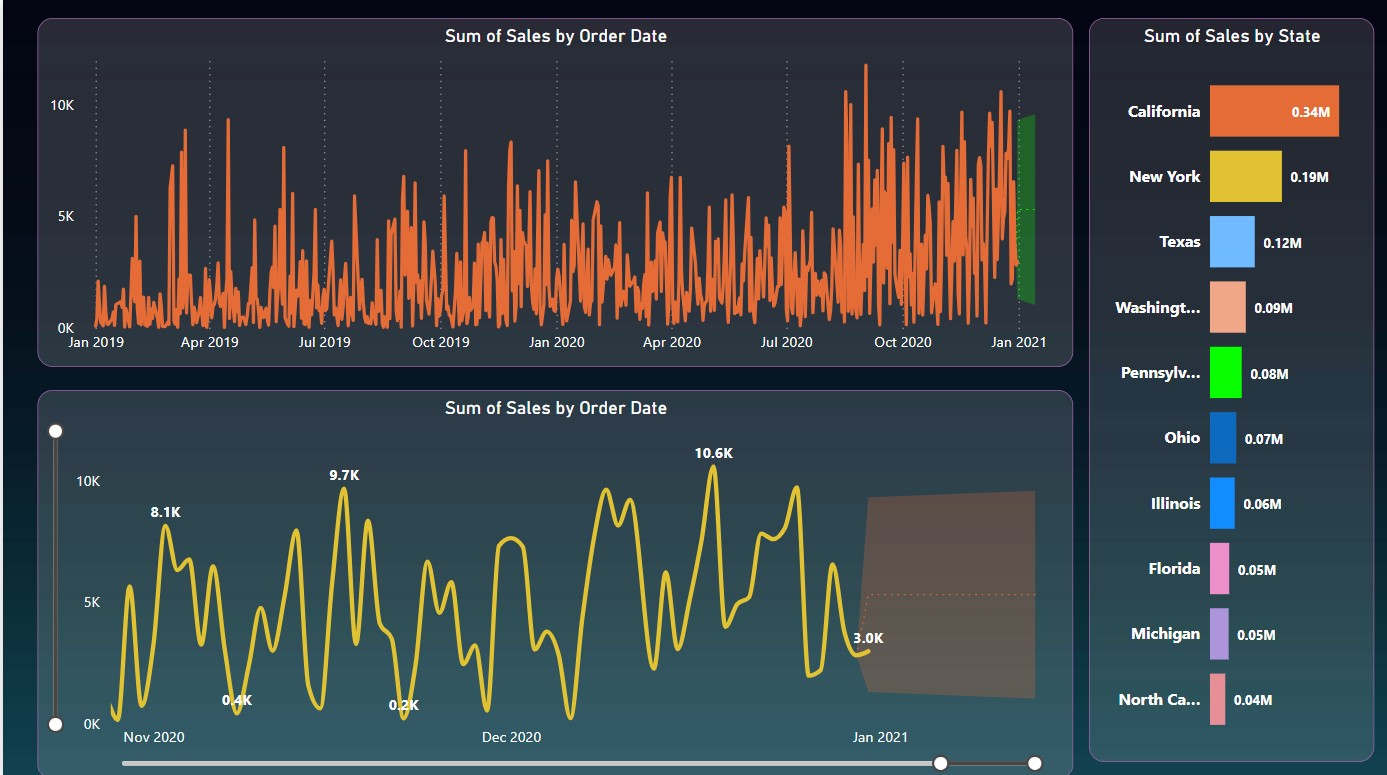

The page's visual inventory and layout, read from the dashboard file:
{"tool":"powerbi","page":{"name":"Page 2","canvas":[1280,720],"ordinal":1},"visuals":[{"type":"lineChart","fields":{"Y":["Sum(SuperStore_Sales_Dataset.Sales)"],"Category":["SuperStore_Sales_Dataset.Order Date"]},"box":[31.8,16.6,956.2,322.3],"z":0},{"type":"lineChart","fields":{"Y":["Sum(SuperStore_Sales_Dataset.Sales)"],"Category":["SuperStore_Sales_Dataset.Order Date"]},"box":[31.8,360.1,956.2,360.1],"z":1000},{"type":"barChart","fields":{"Category":["SuperStore_Sales_Dataset.State"],"Y":["Sum(SuperStore_Sales_Dataset.Sales)"]},"box":[1003.1,16.6,263.3,686.9],"z":2000}]}

Visuals, with their boxes in screenshot pixels (x1, y1, x2, y2), scaled from the page's 1280x720 canvas onto the 1387x775 screenshot:
lineChart - Sum(SuperStore_Sales_Dataset.Sales) x SuperStore_Sales_Dataset.Order Date: <box>34,18,1071,365</box>
lineChart - Sum(SuperStore_Sales_Dataset.Sales) x SuperStore_Sales_Dataset.Order Date: <box>34,388,1071,774</box>
barChart - SuperStore_Sales_Dataset.State x Sum(SuperStore_Sales_Dataset.Sales): <box>1087,18,1372,757</box>
